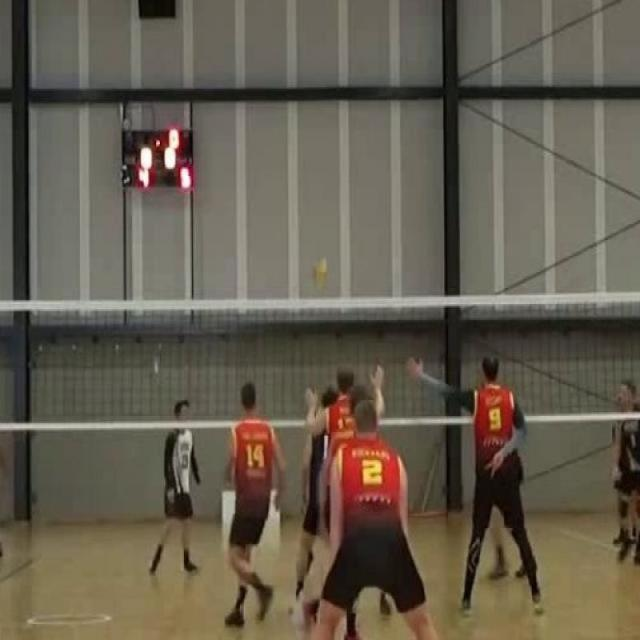volleyball: (309, 255, 330, 288)
